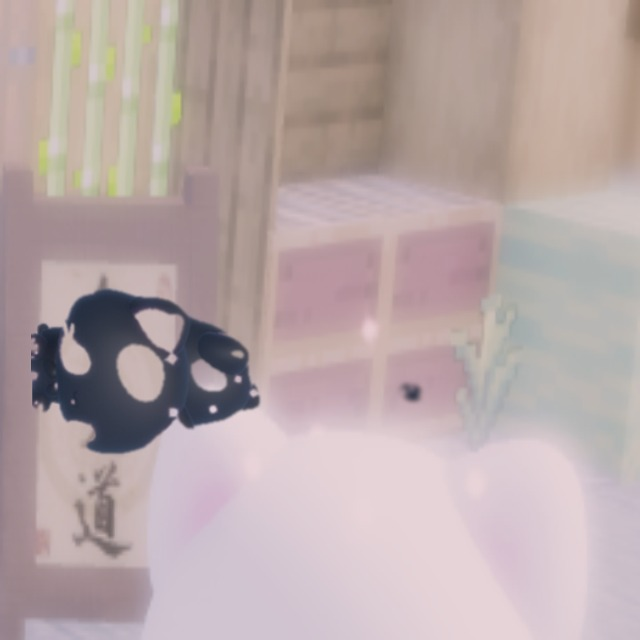urso_preto: (31, 281, 276, 471), (393, 377, 428, 408)
